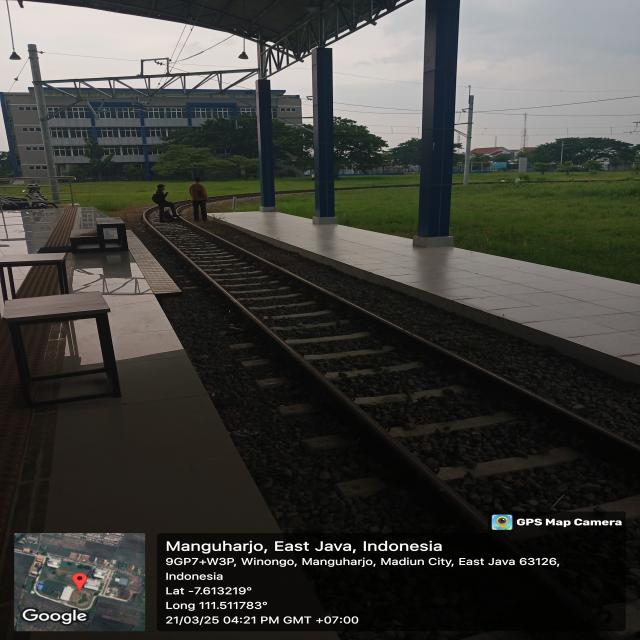rail-detection: (181, 219, 640, 456), (143, 214, 486, 530), (222, 240, 640, 456)
